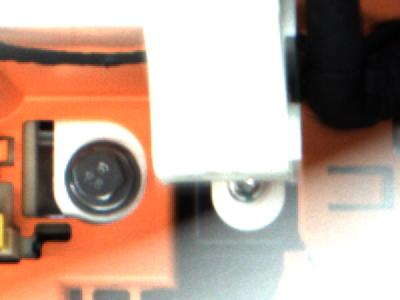nut_b: (63, 138, 138, 212)
